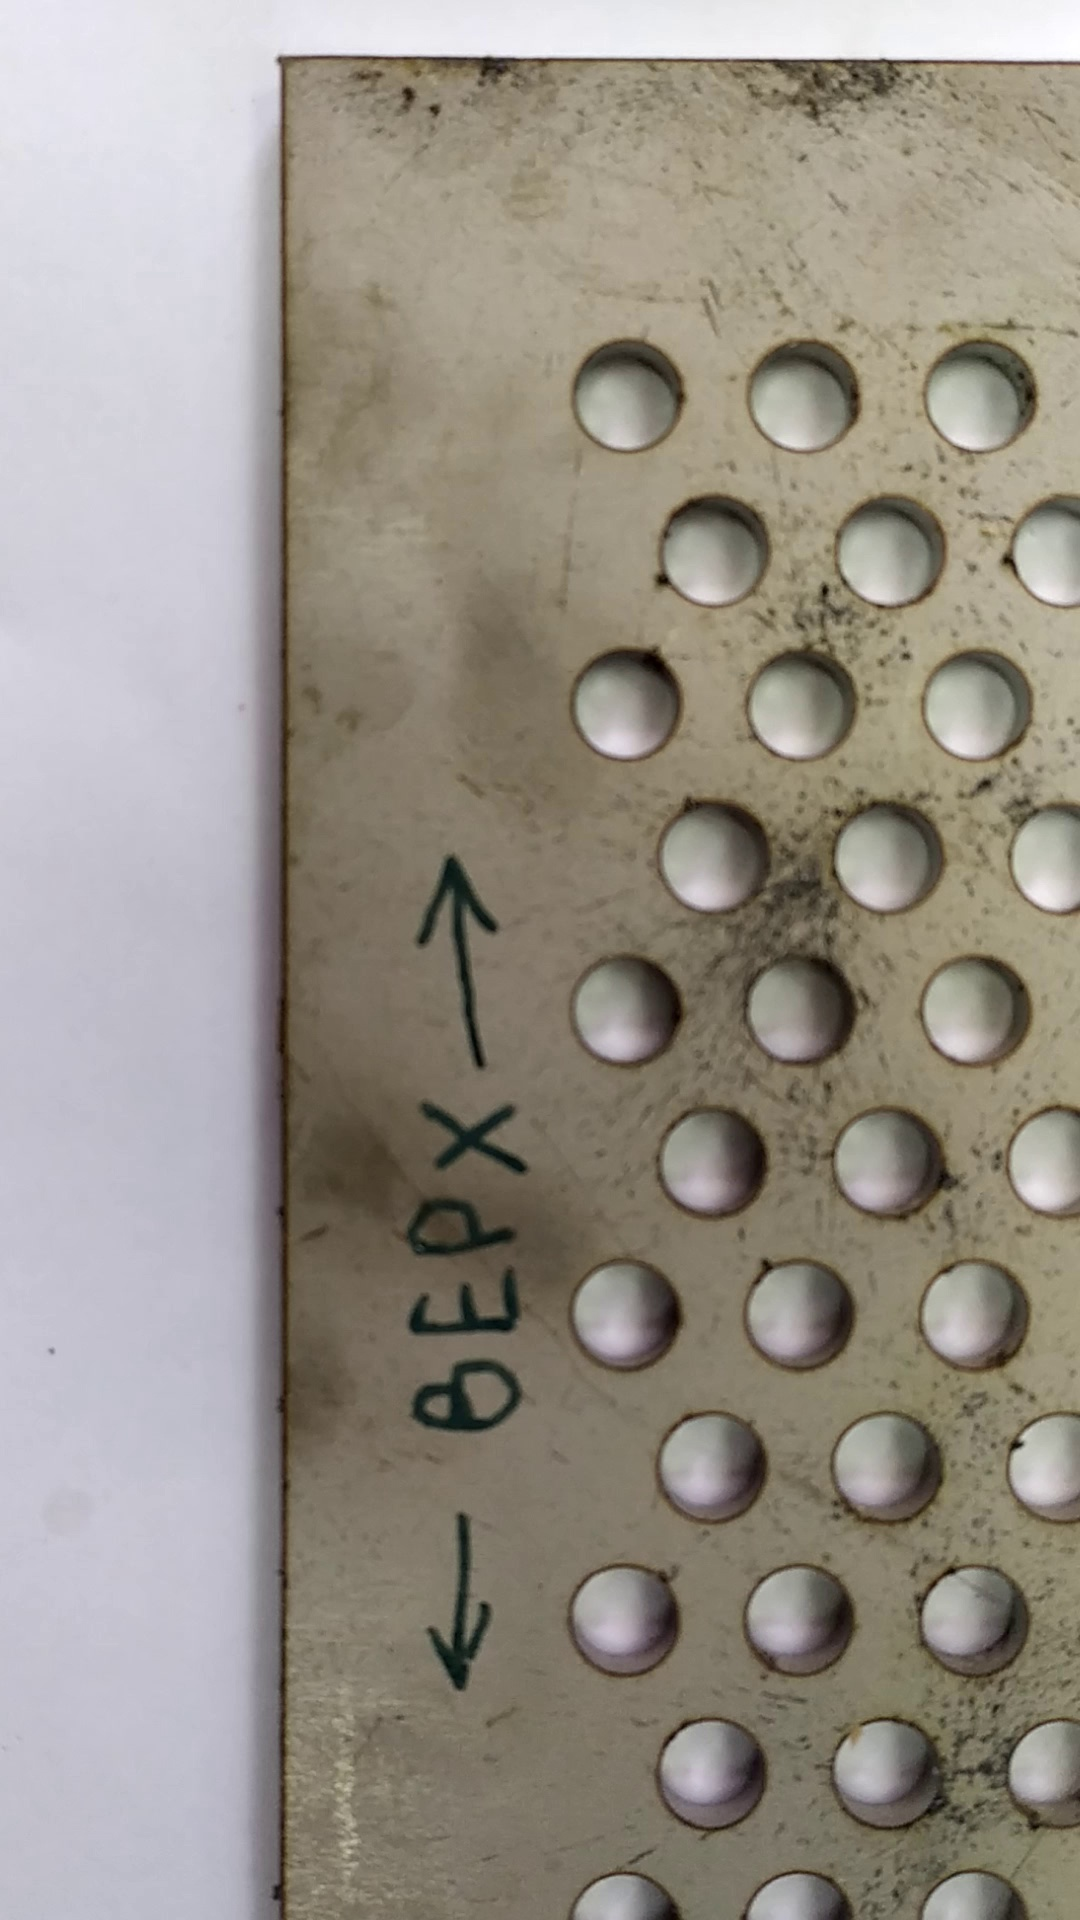Hole: (553, 324, 702, 473), (727, 320, 876, 469), (816, 1702, 969, 1845), (547, 1553, 704, 1689), (638, 787, 787, 928), (636, 1396, 785, 1536), (906, 940, 1054, 1079), (732, 1552, 880, 1691), (820, 1095, 961, 1238), (820, 483, 961, 624), (909, 319, 1048, 462), (556, 940, 696, 1083), (555, 1250, 700, 1387), (638, 1706, 783, 1844), (555, 632, 700, 767), (732, 634, 873, 771), (644, 485, 791, 615), (735, 1244, 865, 1387), (736, 942, 865, 1087), (909, 1246, 1044, 1383), (906, 1553, 1043, 1687), (641, 1097, 781, 1228), (818, 793, 953, 920), (909, 640, 1040, 767), (824, 1407, 951, 1530)
